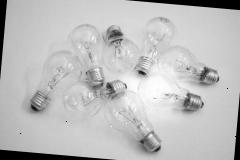lightbulb: (26, 6, 224, 158), (100, 88, 166, 152), (28, 48, 83, 116), (135, 70, 205, 116), (154, 44, 220, 86), (136, 14, 178, 78), (100, 24, 142, 78), (65, 23, 107, 69), (61, 78, 105, 120)
